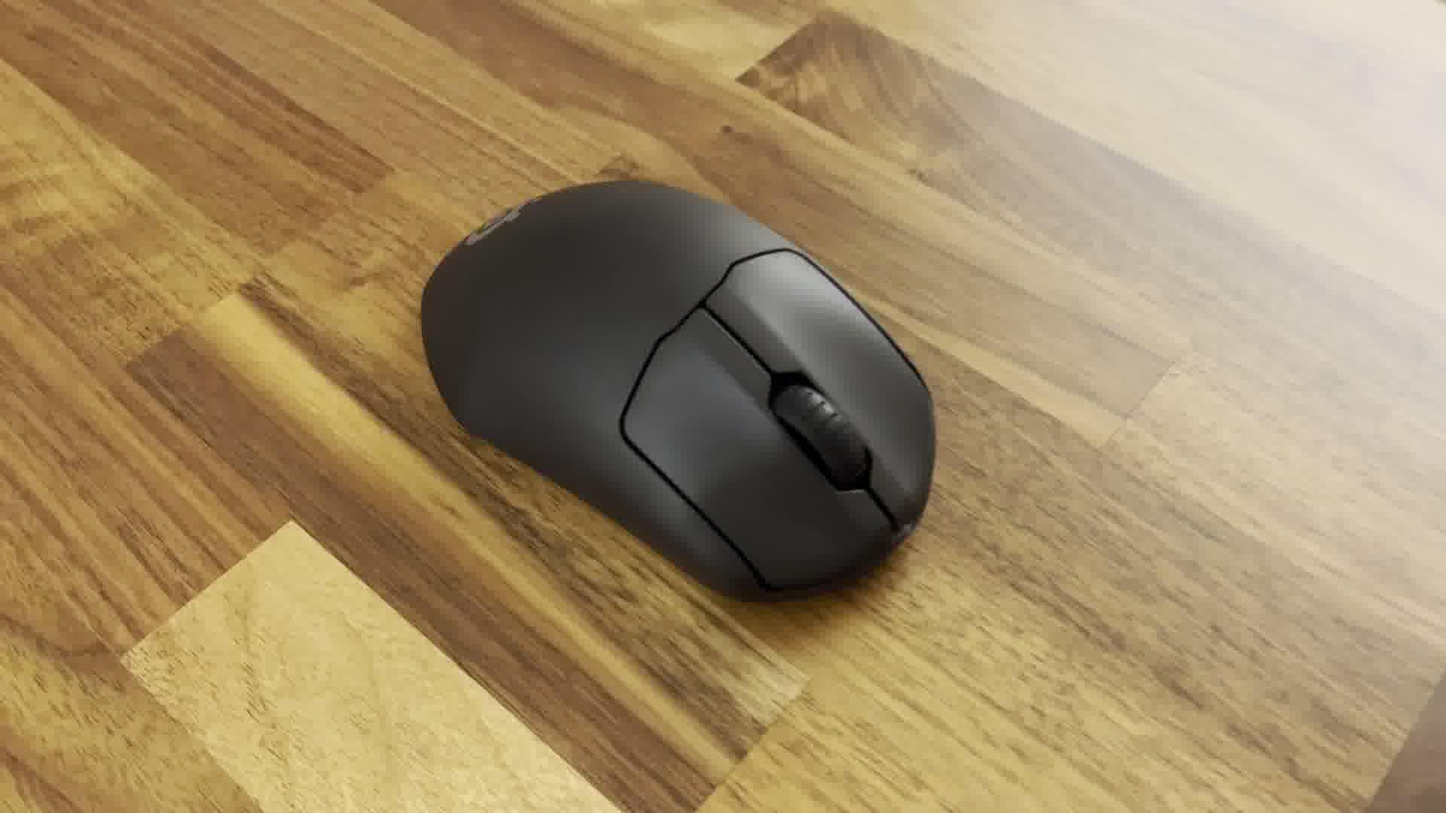steel-series: (419, 175, 939, 603)
